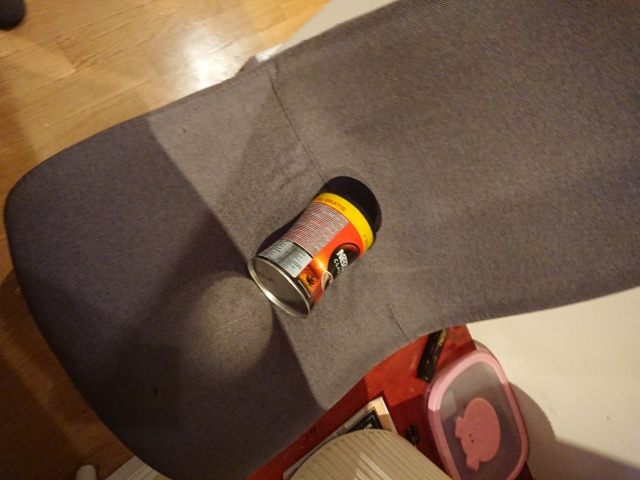Nescafe Classic 225g: (244, 186, 379, 322)
